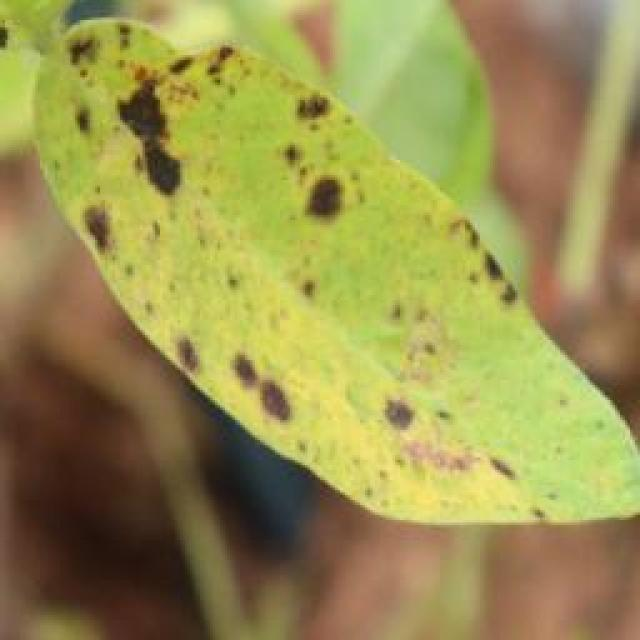Yellowish: (44, 6, 616, 538)
